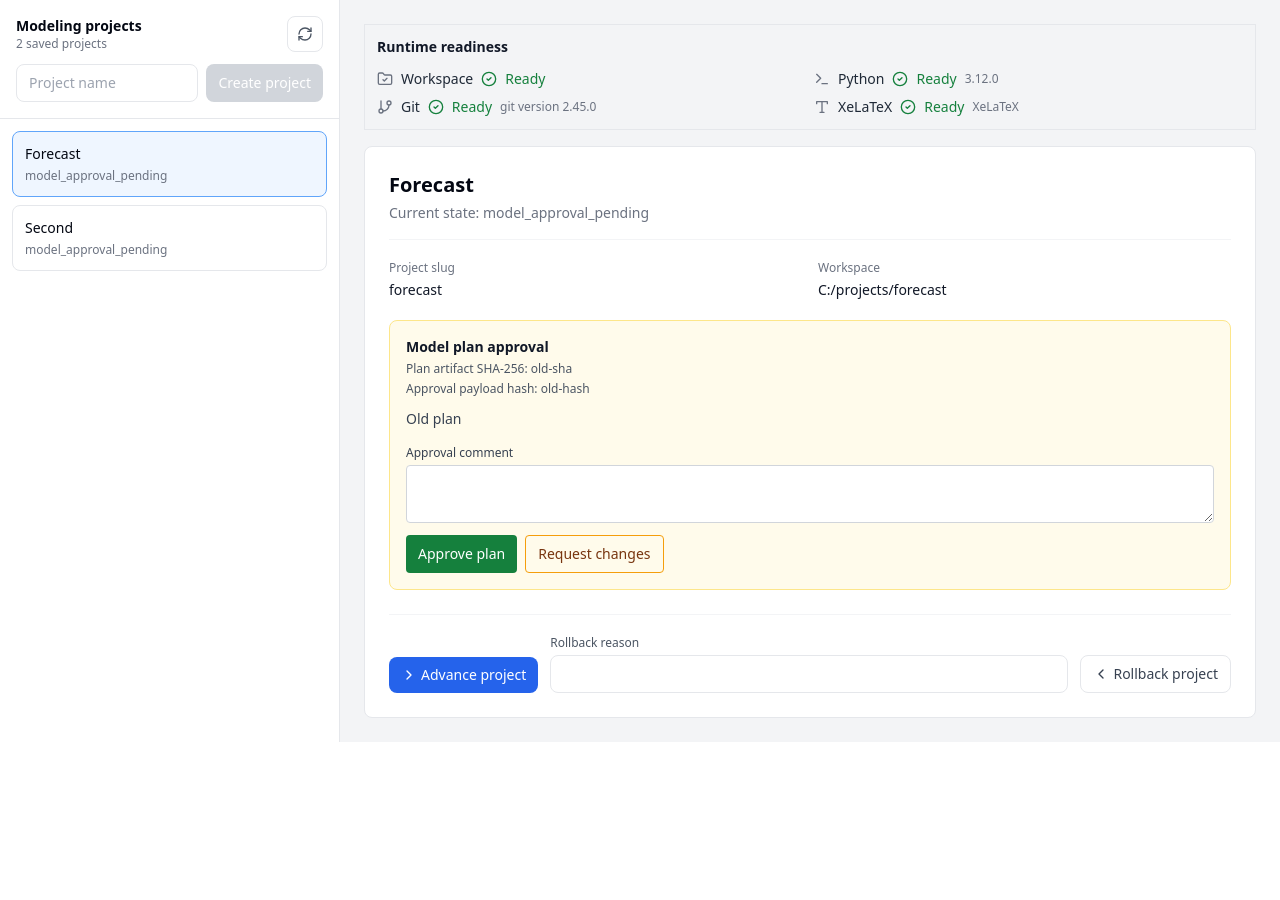
Scenario: ModelingProjectsView › does not render the previous project approval while new evidence loads
Check: the heading "Model plan approval" is shown, box [406, 337, 549, 356]
Click the button "Second model_approval_pending" at {"x": 170, "y": 238}, box [12, 205, 327, 271]
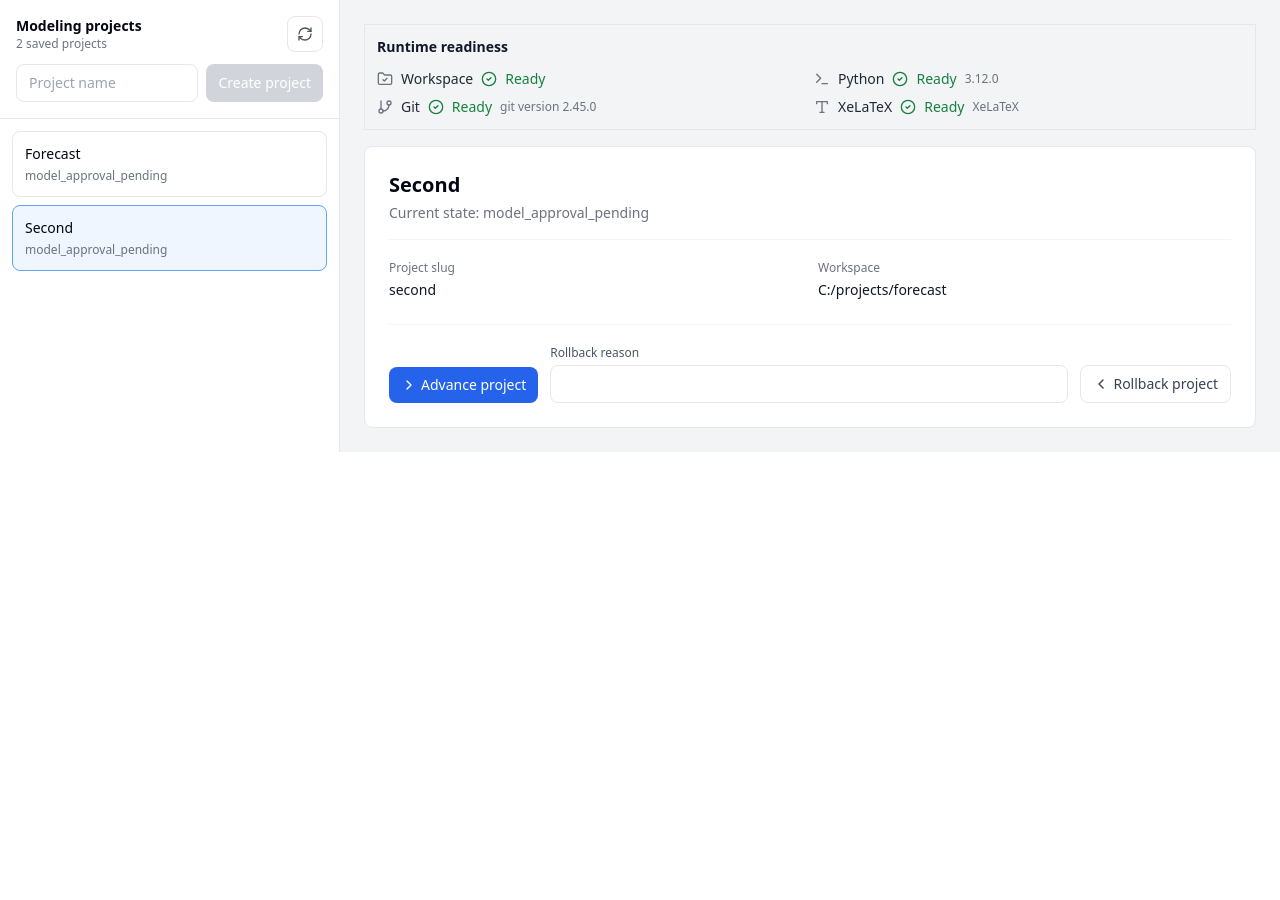
Check: the heading "Second" is shown, box [389, 171, 460, 198]
Check: the heading "Model plan approval" is gone
